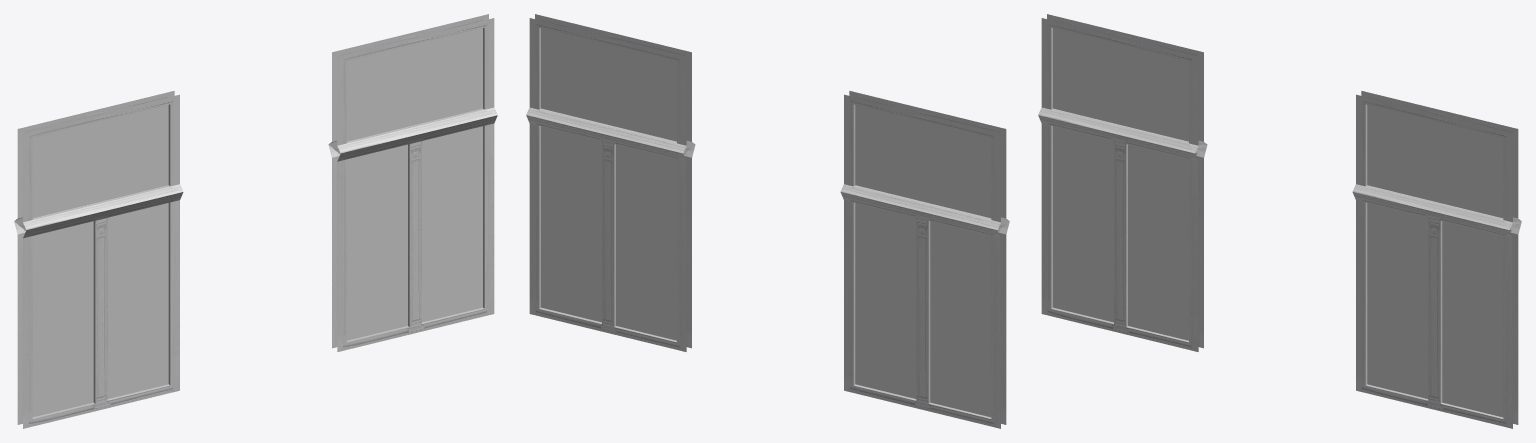
Rendered from Window2C.fbx.
3 renders of one model, left to right at view 1: azimuth 30°, elevation 25°; view 2: azimuth 150°, elevation 25°; view 3: azimuth 330°, elevation 25°, orthographic.
Visible parts, largest first — view 1: Window2C; view 2: Window2C; view 3: Window2C.
Part boxes in pixels (bbox=[...]): Window2C: bbox=[14, 14, 497, 428]; Window2C: bbox=[526, 14, 1009, 428]; Window2C: bbox=[1038, 14, 1521, 428].
Bounding box in the file's own units: 300 × 180 × 13.57.
